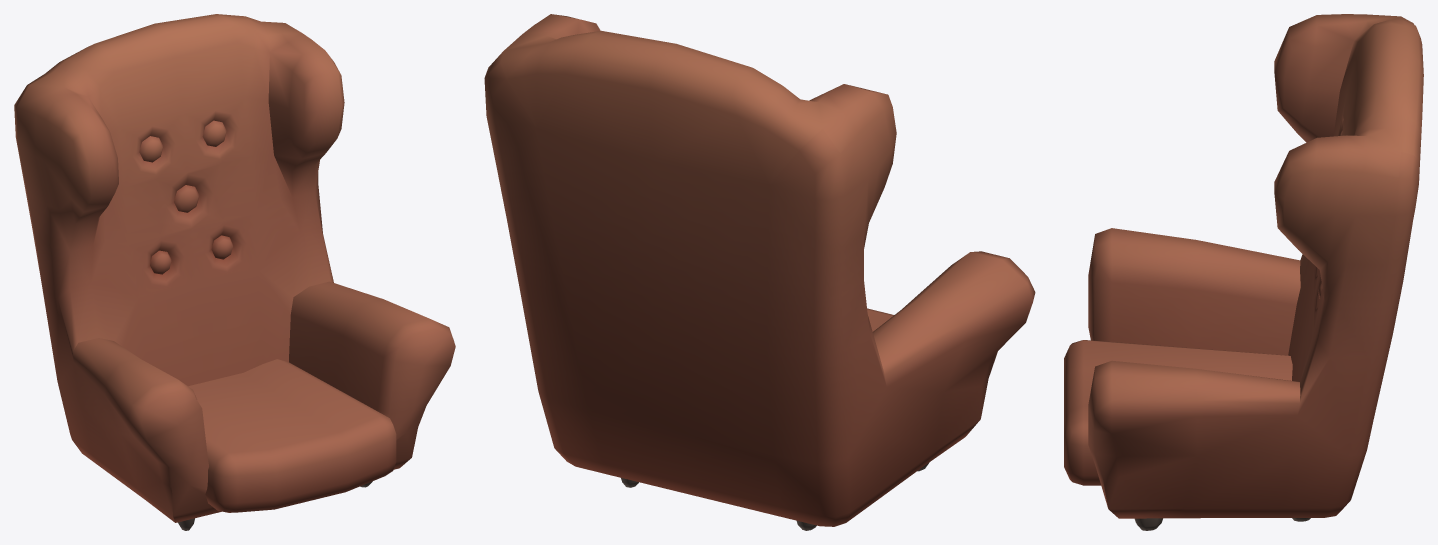
Rendered from chair_large_brown.obj.
3 views of the same model, side by side, from view 1: azimuth 30°, elevation 25°; view 2: azimuth 150°, elevation 25°; view 3: azimuth 270°, elevation 25° (orthographic). The views are drawn at different scales.
Visible parts, largest first — view 1: chair_large_brown; view 2: chair_large_brown; view 3: chair_large_brown.
Boxes of the visible parts, <box> form: chair_large_brown: <box>14,14,455,530</box>; chair_large_brown: <box>484,14,1035,530</box>; chair_large_brown: <box>1064,14,1423,530</box>.
Size of the model in its own units: 1.83 by 2.14 by 1.61.
1 material, 1 textured.
